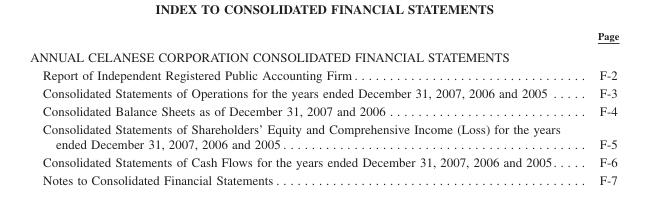table: (29, 29, 618, 186)
table column: (29, 29, 578, 186), (578, 29, 618, 186)
table column header: (29, 29, 618, 45)
table projected row header: (29, 45, 618, 65)
table row: (29, 119, 618, 152), (29, 45, 618, 65), (29, 65, 618, 83), (29, 83, 618, 101), (29, 101, 618, 119), (29, 152, 618, 170), (29, 29, 618, 45), (29, 170, 618, 186)
